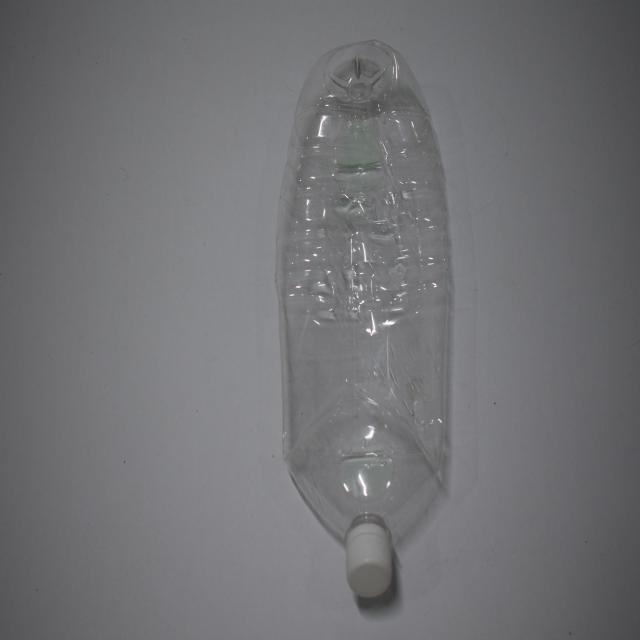empty: (276, 41, 449, 598)
